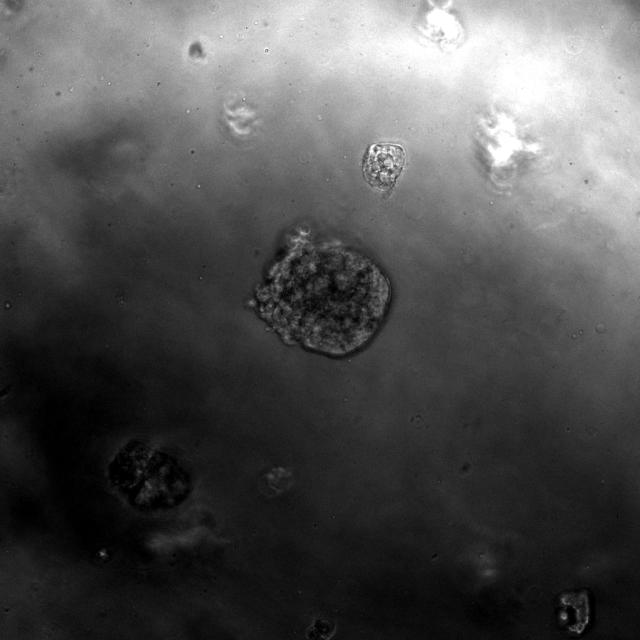organoid: (248, 224, 391, 357), (106, 440, 191, 512), (476, 106, 541, 192), (416, 0, 464, 50), (362, 143, 405, 192), (554, 588, 593, 636), (259, 467, 293, 498), (188, 41, 205, 60)
